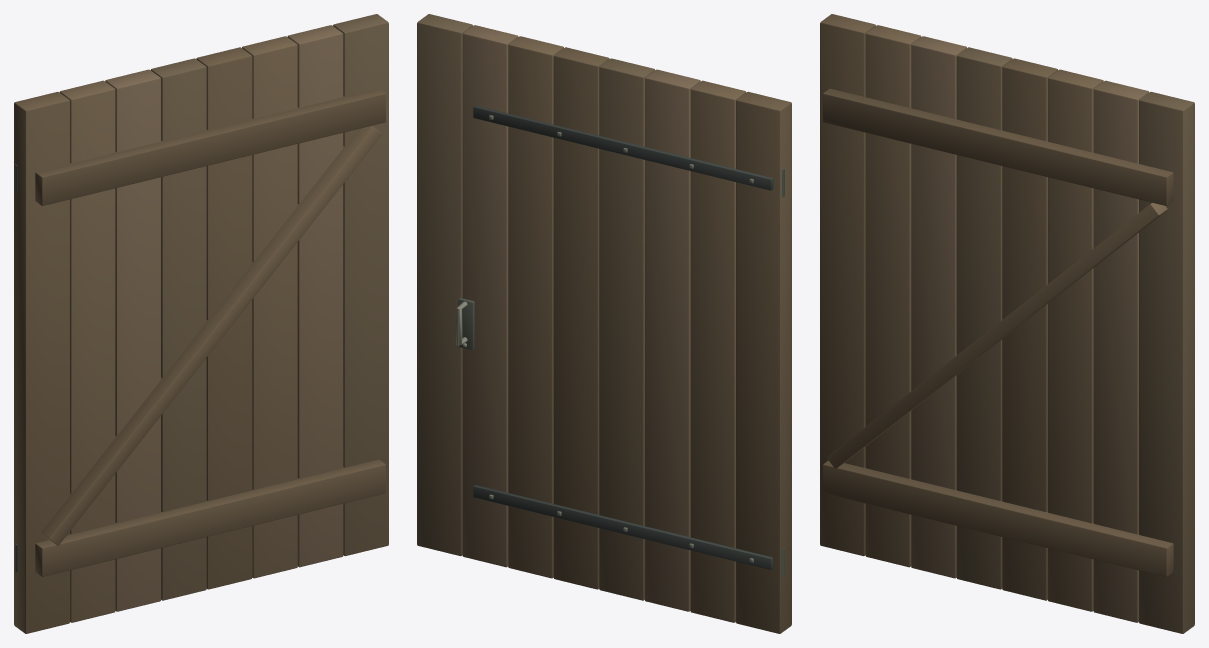
Rendered from Porte_Finition_final.fbx.
3 views of the same model, side by side, from view 1: azimuth 30°, elevation 25°; view 2: azimuth 150°, elevation 25°; view 3: azimuth 330°, elevation 25° (orthographic).
Parts seen in each view (by area): view 1: Porte_Planches_Assemblage.003; view 2: Porte_Planches_Assemblage.003, Porte_Ferrures_Poignee.003; view 3: Porte_Planches_Assemblage.003.
Boxes of the visible parts, left/top/right/bottom form: Porte_Planches_Assemblage.003: left=14, top=14, right=388, bottom=633; Porte_Planches_Assemblage.003: left=417, top=14, right=791, bottom=633; Porte_Ferrures_Poignee.003: left=456, top=105, right=784, bottom=576; Porte_Planches_Assemblage.003: left=820, top=14, right=1194, bottom=633.
Size of the model in its own units: 182 by 250 by 26.94.
